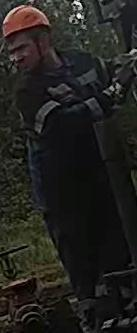gloves: (104, 45, 136, 109)
helmet: (1, 4, 50, 39)
vest: (12, 48, 114, 214)
